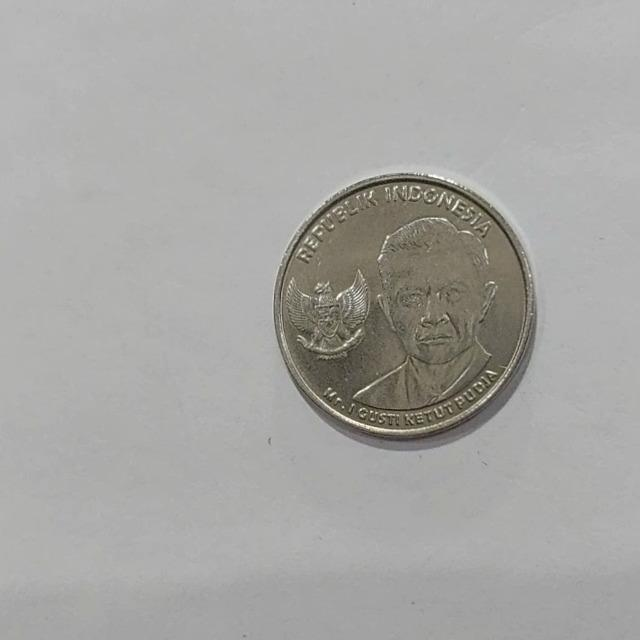Rp100: (273, 171, 536, 443), (347, 213, 501, 413)
